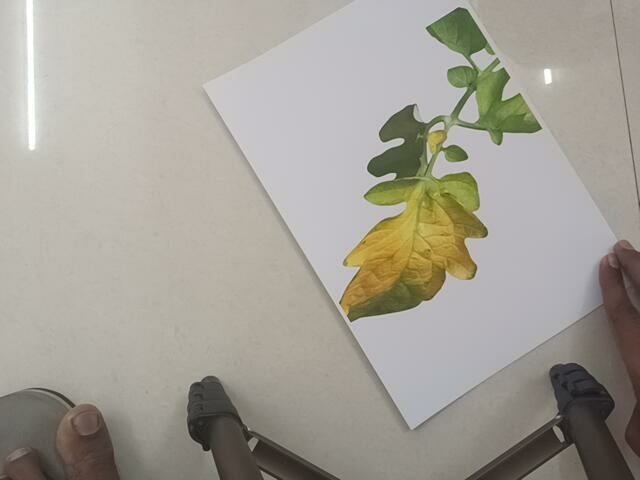Tomamto_Yellow_Disease: (332, 11, 537, 324)
